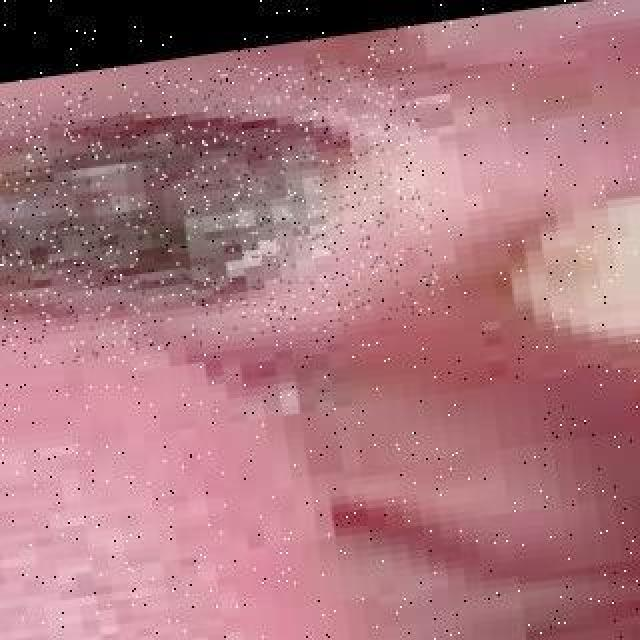cavities: (20, 95, 326, 343)
missing: (288, 98, 536, 310)
